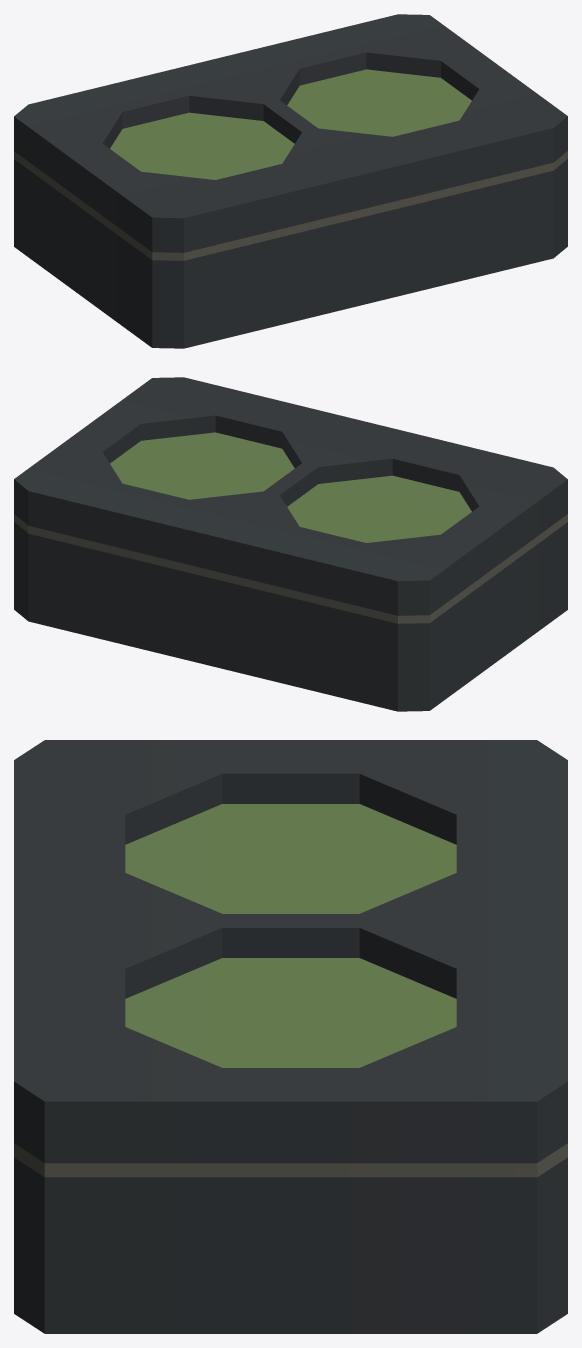
Rendered from HousePart_05.fbx.
3 views of the same model, one above another, from view 1: azimuth 30°, elevation 25°; view 2: azimuth 150°, elevation 25°; view 3: azimuth 270°, elevation 25° (orthographic). The views are drawn at different scales.
Visible parts, largest first — view 1: HousePart_05; view 2: HousePart_05; view 3: HousePart_05.
Part boxes in pixels (box(x1,y1,x2,y2)): HousePart_05: box(14, 14, 567, 348); HousePart_05: box(14, 377, 567, 711); HousePart_05: box(14, 740, 567, 1333).
Bounding box in the file's own units: 1.08 × 0.3243 × 0.7009.
